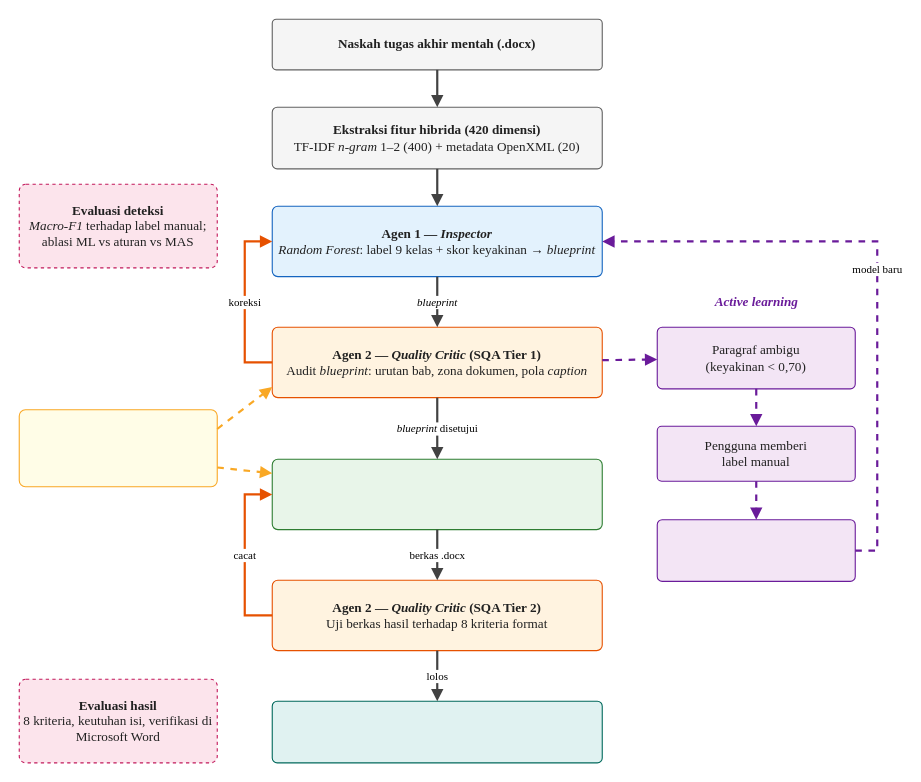
The diagram is 921 pixels wide and 782 high, and some of its shapes have lost their labels. Here are the shapes that lost their labels. From the top down, the centre of each, then its label:
(117,448): Pedoman Penulisan TA UEU 2018 + aturan tambahan tertulis
(436,494): Agen 3 — Formatting Actuator Salin isi utuh, terapkan format pada template UEU
(755,550): Retraining + uji non-regresi ( macro-F1 tidak turun)
(436,731): Dokumen rapi (.docx) + laporan skor mutu dan sisa cacat
